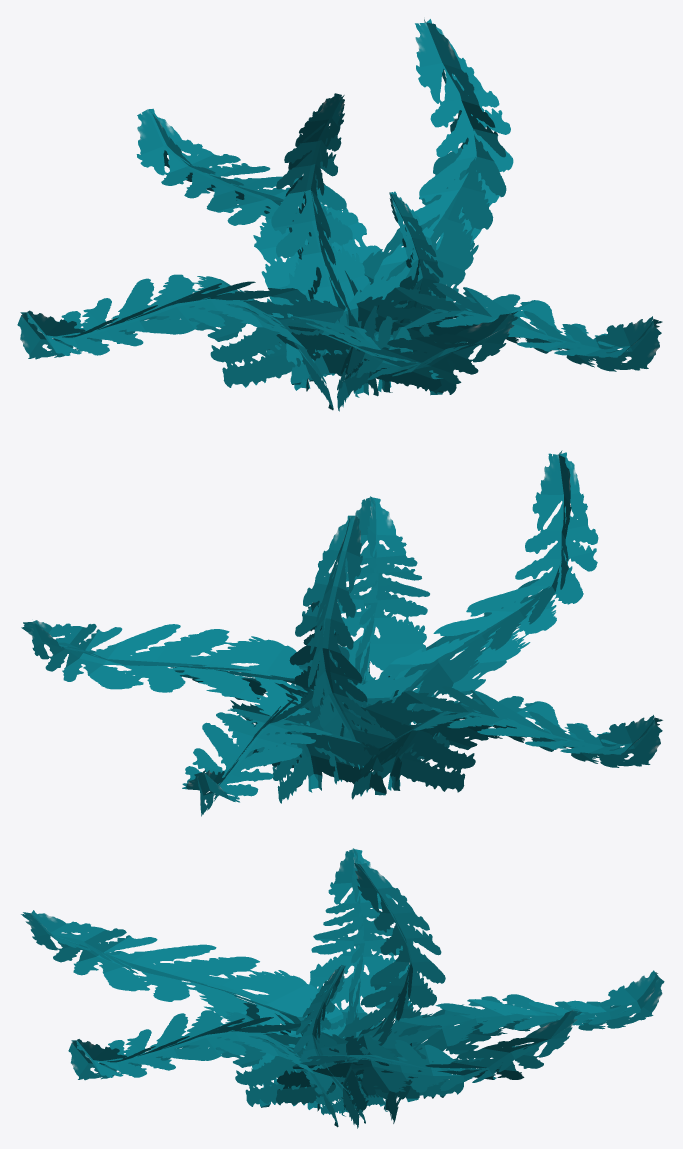
File: PlantaAzul.fbx
The picture shows the model from 3 angles, top to bottom: view 1: azimuth 30°, elevation 25°; view 2: azimuth 150°, elevation 25°; view 3: azimuth 270°, elevation 25°; orthographic projection. The views are drawn at different scales.
Visible parts, largest first — view 1: PlantaAzul; view 2: PlantaAzul; view 3: PlantaAzul.
Boxes of the visible parts, x1,y1,x2,y2 form: PlantaAzul: (17, 19, 662, 411); PlantaAzul: (21, 450, 662, 816); PlantaAzul: (21, 848, 664, 1128).
Bounding box in the file's own units: 1.61 × 0.748 × 1.87.
